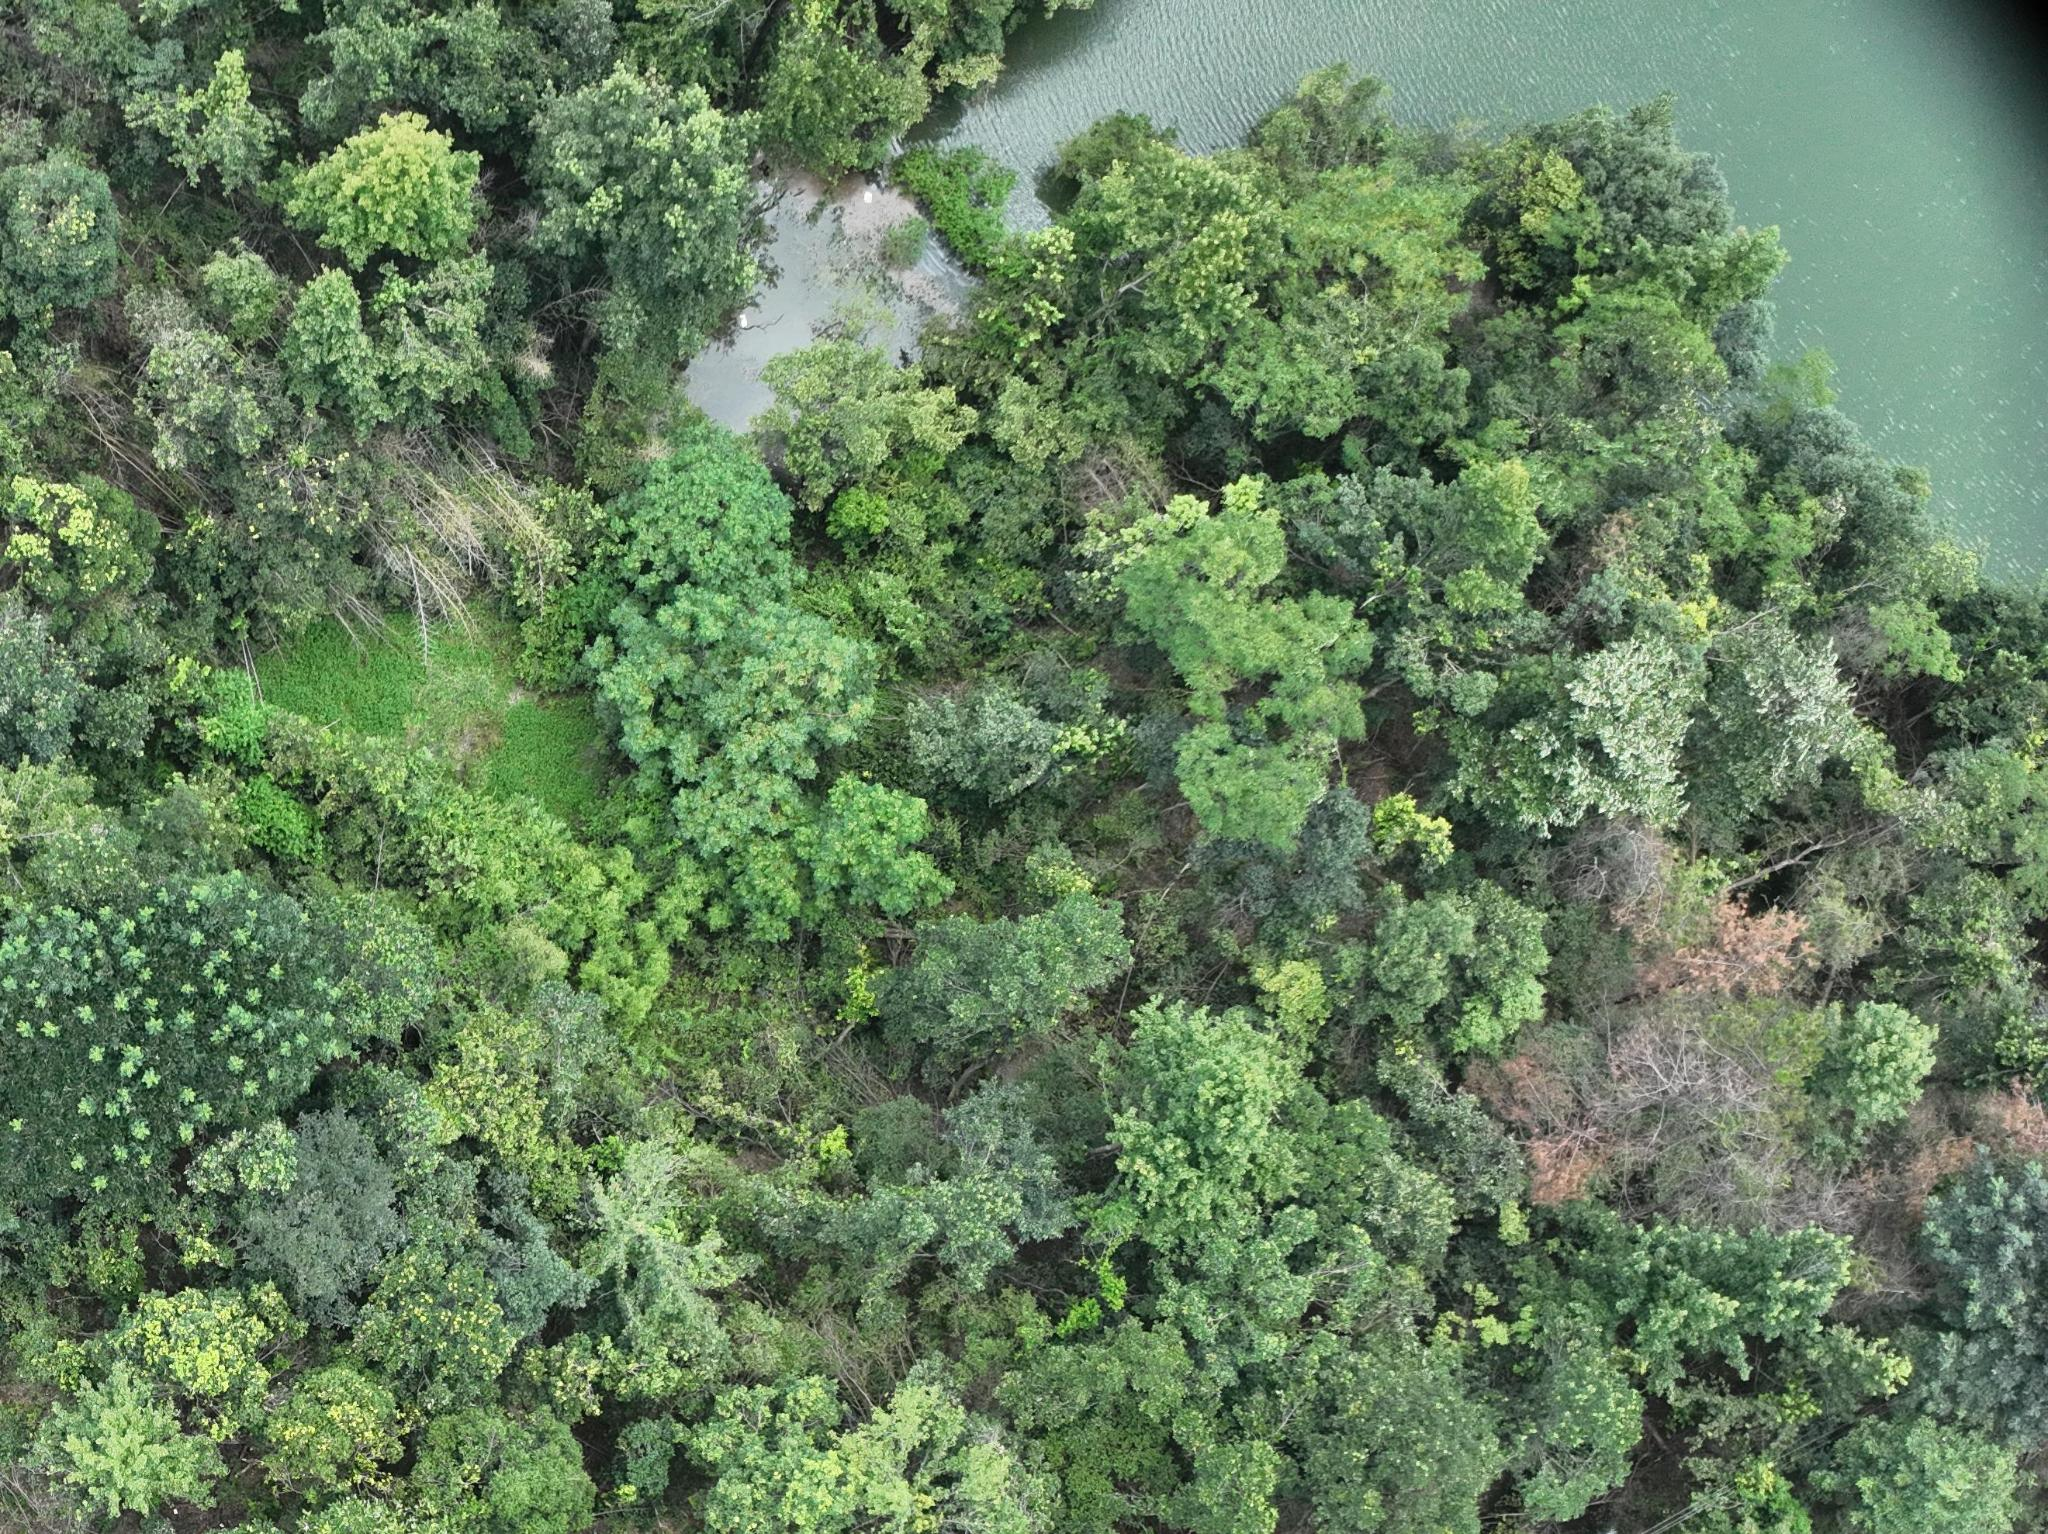dead: (1623, 1030, 1821, 1242)
heavy: (1858, 1076, 2046, 1191), (1479, 1046, 1595, 1210), (1668, 893, 1821, 1004)
